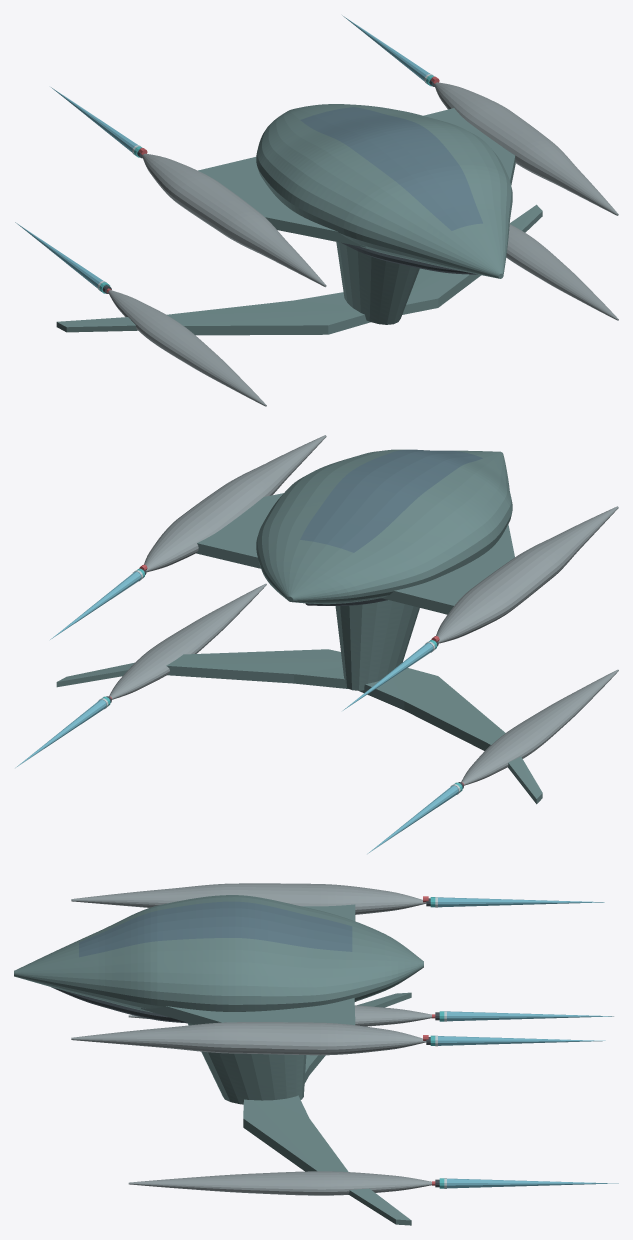
Rendered from arma_teal_flight.glb.
3 renders of one model, top to bottom at view 1: azimuth 30°, elevation 25°; view 2: azimuth 150°, elevation 25°; view 3: azimuth 270°, elevation 25°, orthographic. The views are drawn at different scales.
Parts seen in each view (by area): view 1: material_0, material_3, material_1, material_7, material_2; view 2: material_0, material_3, material_1, material_7; view 3: material_0, material_3, material_1, material_7, material_2.
Boxes of the visible parts, x1,y1,x2,y2 form: material_0: [56, 104, 542, 335]; material_3: [108, 82, 618, 406]; material_1: [300, 107, 482, 230]; material_7: [15, 15, 430, 288]; material_2: [102, 79, 477, 293]; material_0: [56, 449, 542, 804]; material_3: [109, 435, 618, 785]; material_1: [300, 449, 482, 552]; material_7: [15, 571, 458, 853]; material_0: [14, 895, 423, 1225]; material_3: [71, 883, 431, 1195]; material_1: [79, 901, 352, 957]; material_7: [438, 897, 618, 1188]; material_2: [51, 898, 439, 1187].
Size of the model in its own units: 4.8 by 1.91 by 5.39.
